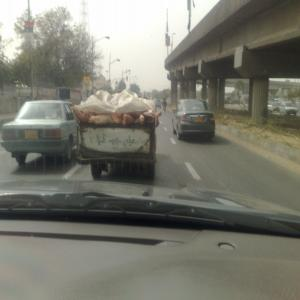Vehicle-registration-plate: (25, 130, 39, 140), (197, 118, 204, 124)
